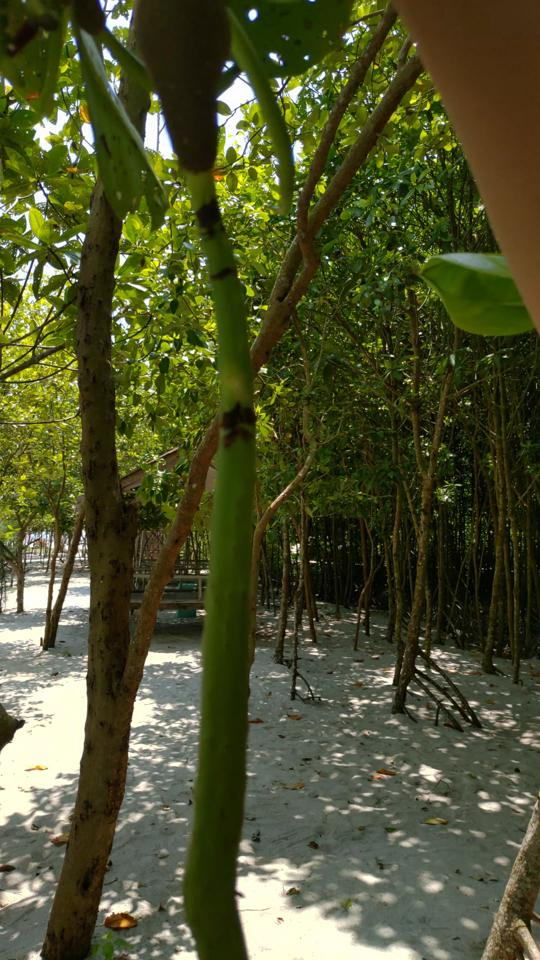setengah matang: (117, 1, 284, 956)
